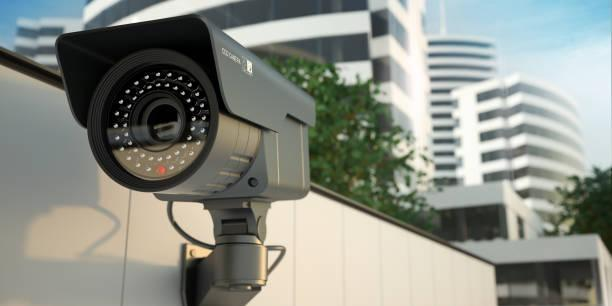camera: (28, 6, 351, 214)
